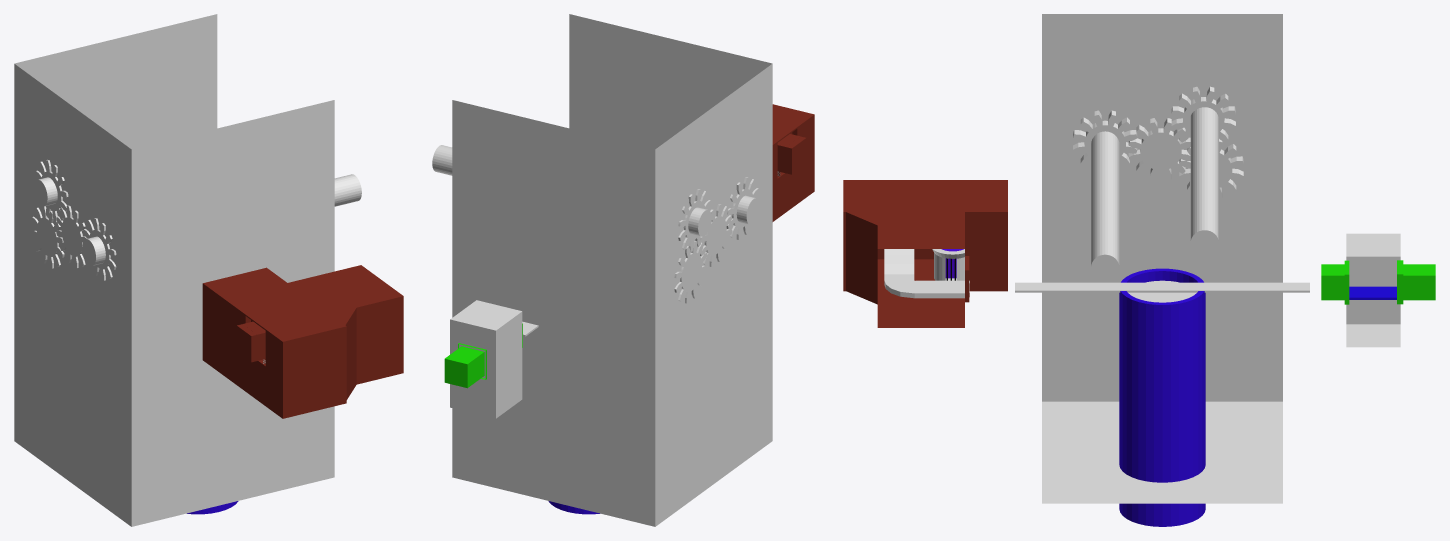
The model's file is NiveauUsine.fbx.
The picture shows the model from 3 angles, left to right: view 1: azimuth 30°, elevation 25°; view 2: azimuth 150°, elevation 25°; view 3: azimuth 270°, elevation 25°; orthographic projection. The views are drawn at different scales.
Visible parts, largest first — view 1: UV2, UV1, UV2_Cylinder, UV2_Gear3, UV2_Gear2, UV2_Gear, UV2_Gear4; view 2: UV2, UV3, UV1, UV2_Cylinder, UV2_Gear3, UV2_Gear2, UV2_Gear, UV2_Gear4; view 3: UV2, UV1, UV2_Bucket, UV3, UV2_Cylinder, UV2_Bride, UV2_Gear2, UV2_Gear, UV2_Gear4, UV2_Gear3, UV1_Magma Barrel.
Boxes of the visible parts, x1,y1,x2,y2 form: UV2: (14,14,334,526); UV1: (202,265,403,418); UV2_Cylinder: (33,174,361,265); UV2_Gear3: (31,206,64,268); UV2_Gear2: (56,205,87,268); UV2_Gear: (83,218,116,280); UV2_Gear4: (35,159,68,222); UV2: (452,14,772,526); UV3: (444,300,522,418); UV1: (772,104,814,221); UV2_Cylinder: (432,145,760,236); UV2_Gear3: (674,241,707,303); UV2_Gear2: (700,204,732,266); UV2_Gear: (726,177,759,239); UV2_Gear4: (678,189,711,251); UV2: (1042,14,1282,503); UV1: (843,180,1007,327); UV2_Bucket: (1119,268,1205,526); UV3: (1321,233,1435,347); UV2_Cylinder: (1091,107,1218,280); UV2_Bride: (1015,282,1309,292); UV2_Gear2: (1128,118,1190,180); UV2_Gear: (1073,110,1137,166); UV2_Gear4: (1171,86,1235,142); UV2_Gear3: (1179,139,1243,199); UV1_Magma Barrel: (932,249,964,280).
Bounding box in the file's own units: 8449 × 12776 × 15871.
